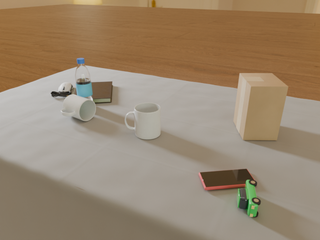book: (73, 82, 112, 103)
bottle: (75, 58, 93, 101)
box: (234, 73, 288, 140)
cup: (125, 103, 161, 139), (61, 94, 96, 121)
mouse: (58, 82, 73, 92)
phone: (199, 169, 254, 190)
toy_car: (237, 180, 261, 217)
